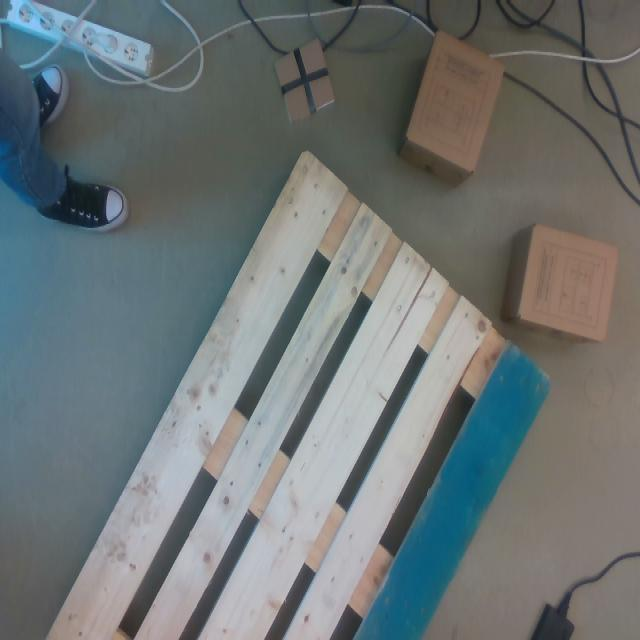pallet: (49, 152, 550, 638)
